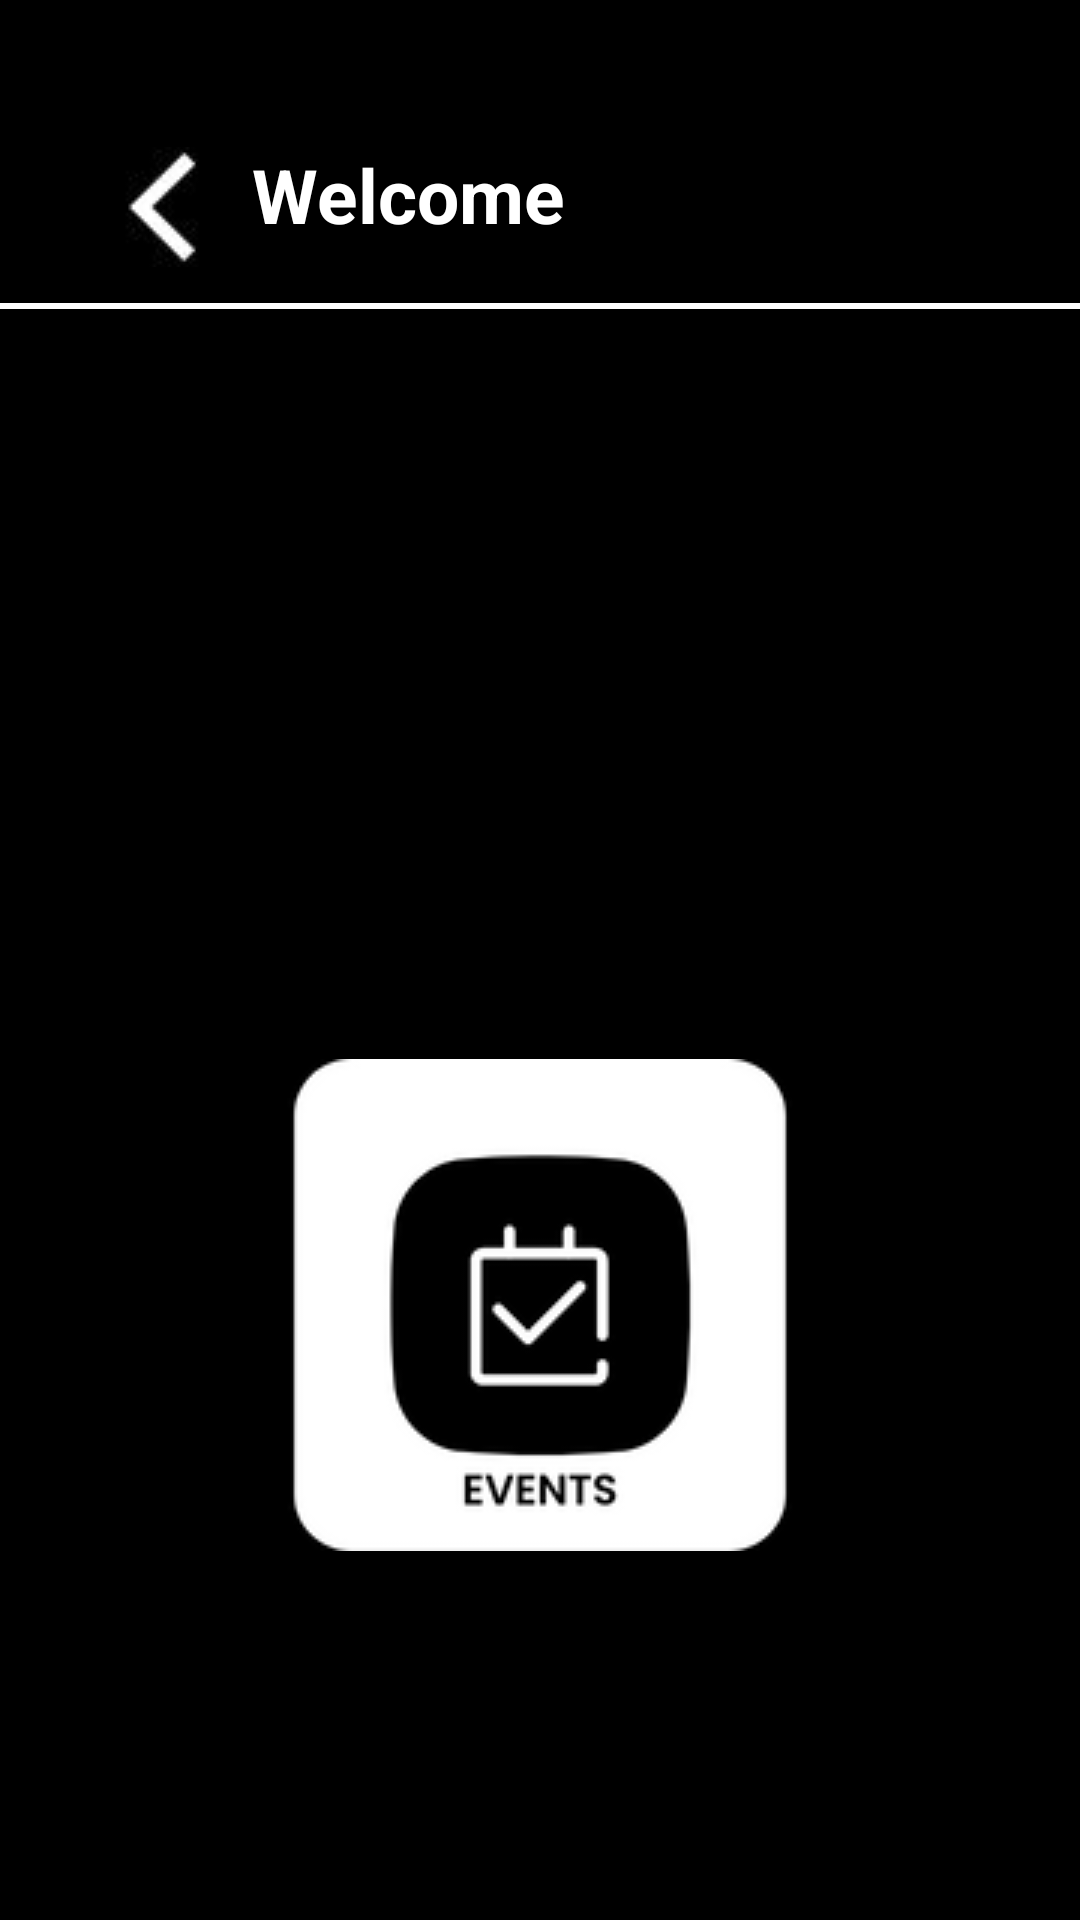

Where icons sit on this 1080 × 1920 app screen, as [x1=x1, y1=y1, x2=x2, y2=y2]:
arrow: [x1=128, y1=152, x2=196, y2=262]
